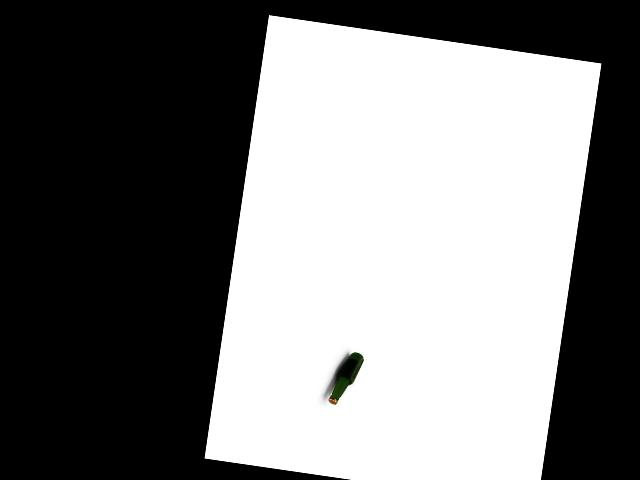beer: (327, 349, 364, 407)
